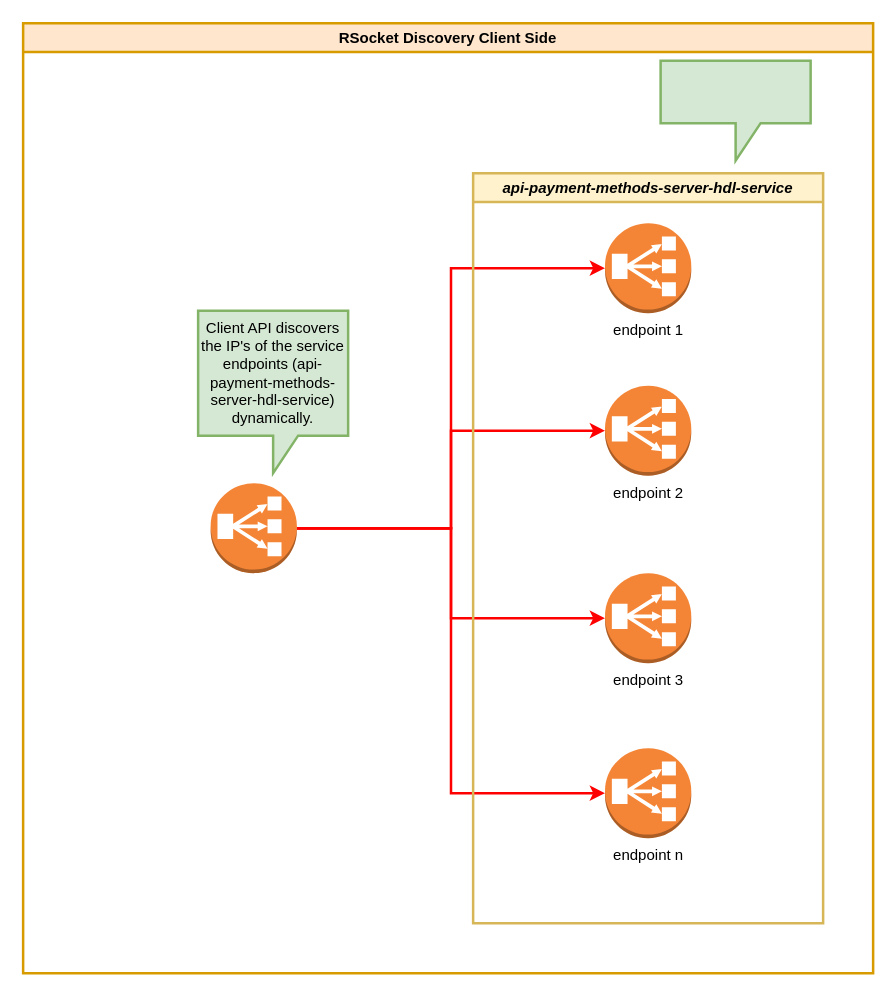
Some shapes in this 895 by 995 pixel diagram are drawn without their labels. The centre of each missing label's shape, as x and y in pixels:
"api-payment-method-client" belongs at point 253,527.
"Endpoints and IP's are dynamically assigned." belongs at point 735,110.
